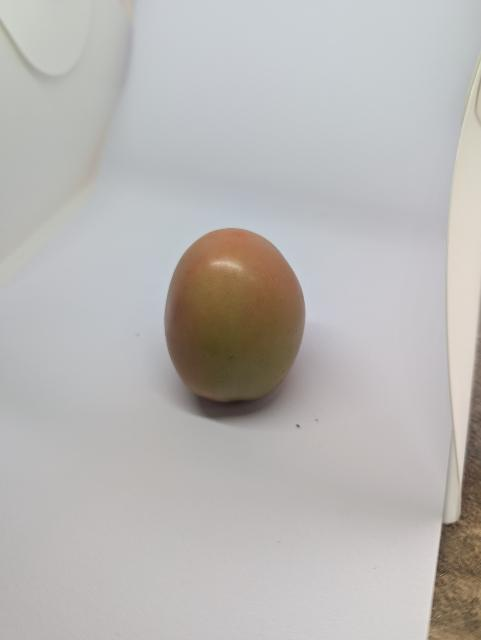turning: (158, 221, 315, 417)
